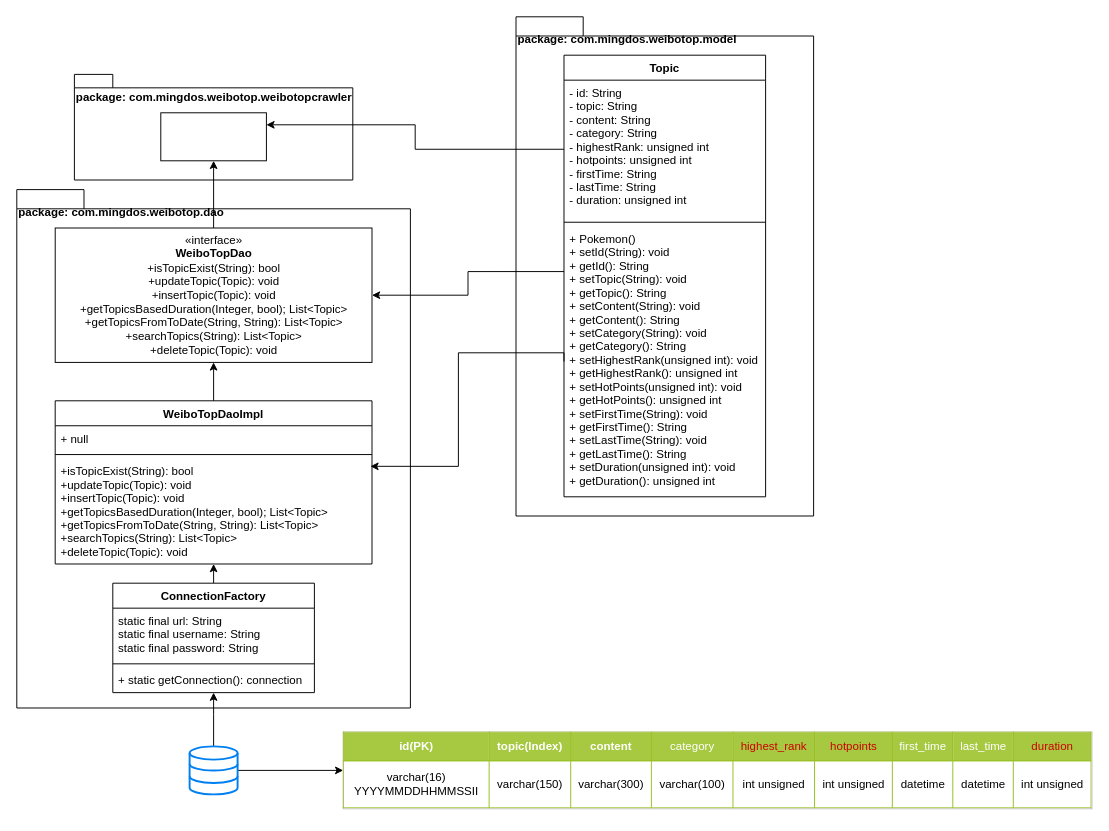
Some shapes in this 1109 by 831 pixel diagram are drawn without their labels. Here are the shapes that lost their labels. From the top down, the centre of each, then its label:
At point 213,136: "WeiboTopCrawler".
At point 213,770: "weibotopdb(MariaDB)".
